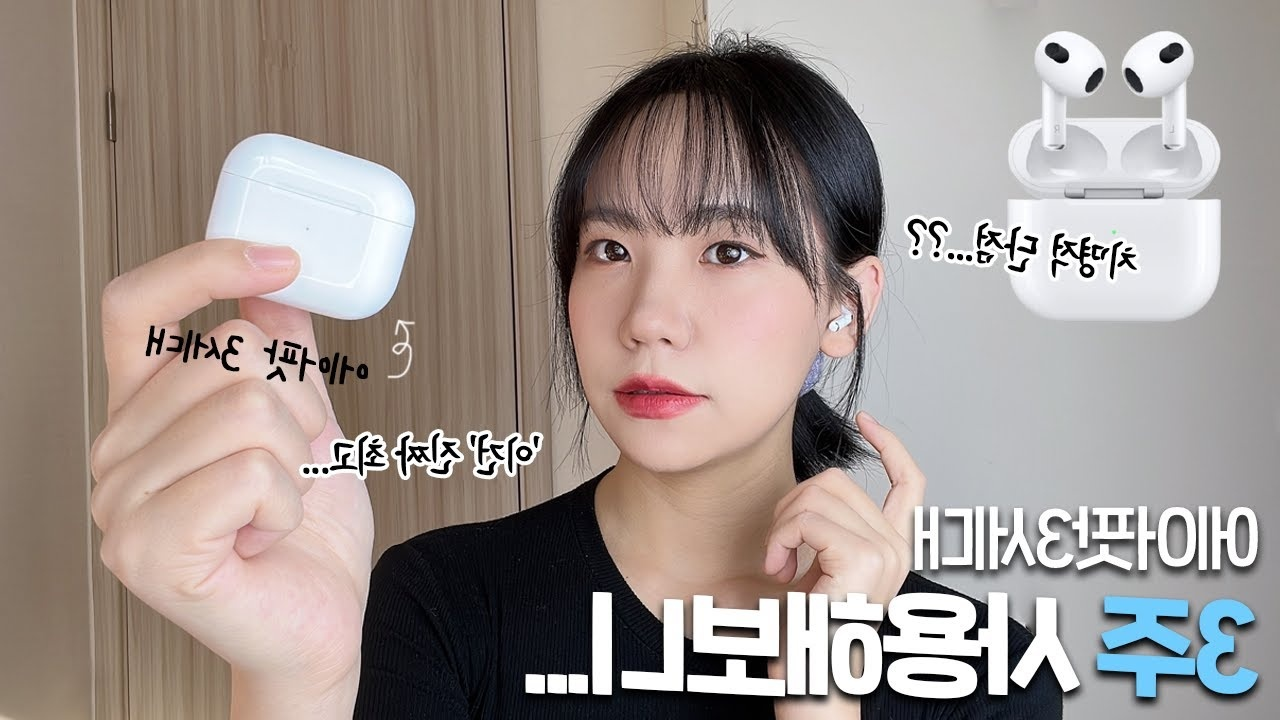earphone: (815, 256, 885, 359)
